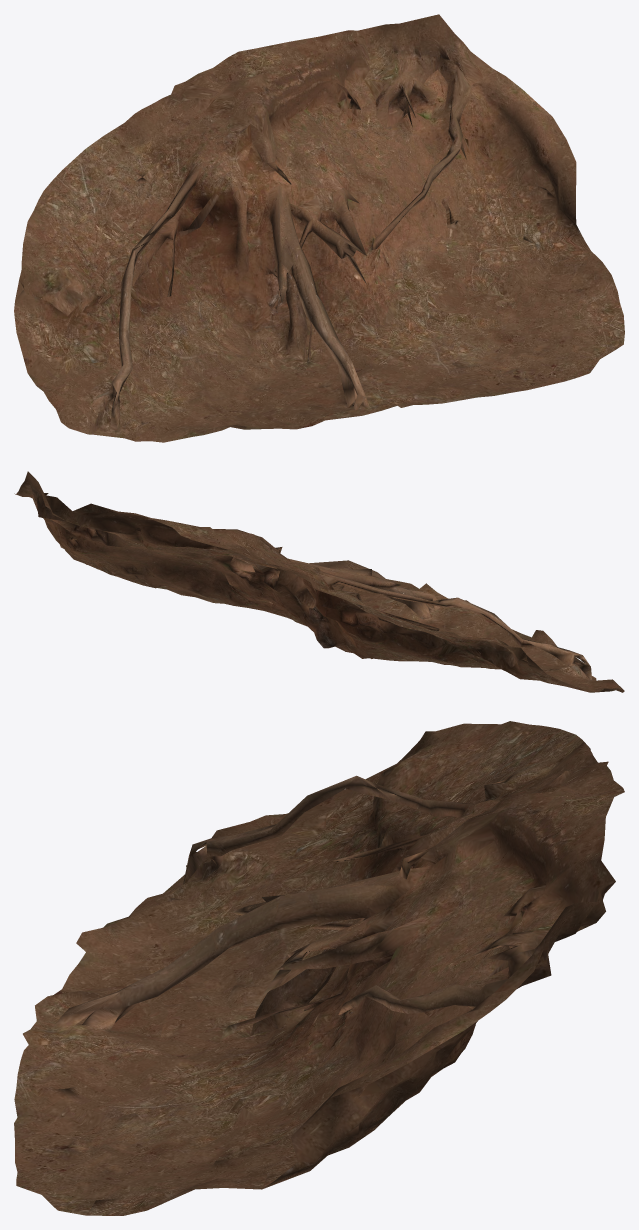
Rendered from root_cluster.gltf.
3 views of the same model, one above another, from view 1: azimuth 30°, elevation 25°; view 2: azimuth 150°, elevation 25°; view 3: azimuth 270°, elevation 25° (orthographic). The views are drawn at different scales.
Parts seen in each view (by area): view 1: root_cluster; view 2: root_cluster; view 3: root_cluster.
Part boxes in pixels (box(x1,y1,x2,y2)): root_cluster: box(14, 14, 624, 442); root_cluster: box(14, 471, 624, 692); root_cluster: box(14, 721, 624, 1215).
Size of the model in its own units: 4.12 by 1.5 by 2.68.
Materials: 1 (1 with a texture image).
